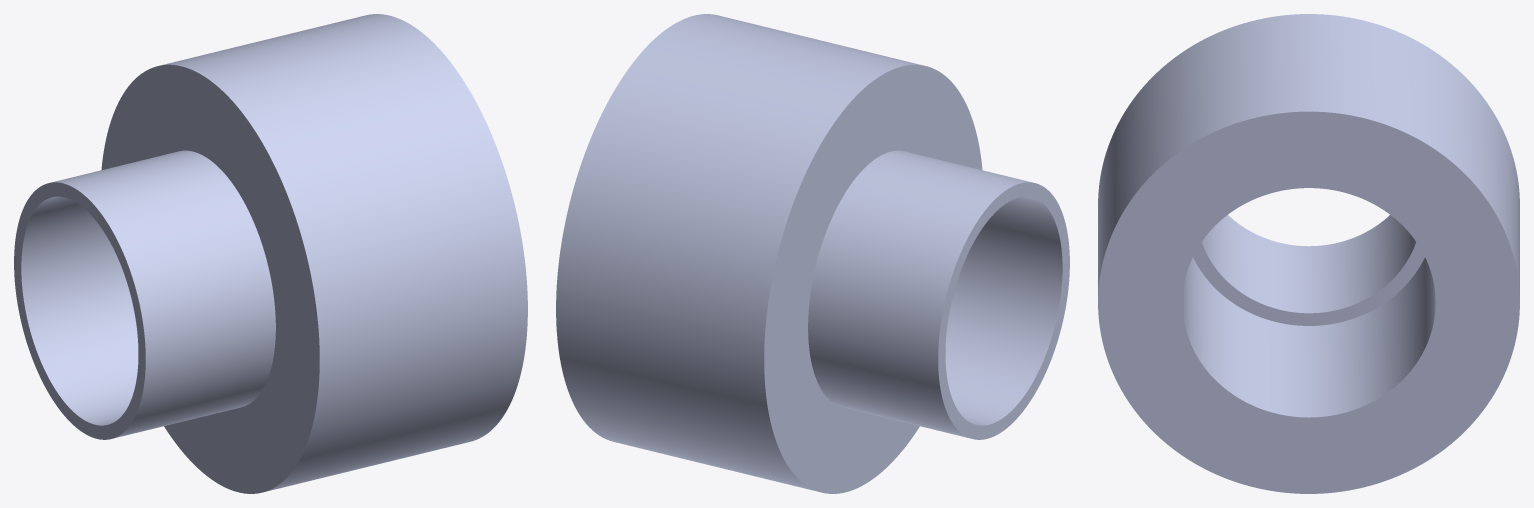
Rendered from AdjustablePipeline_2.fbx.
The picture shows the model from 3 angles, left to right: view 1: azimuth 30°, elevation 25°; view 2: azimuth 150°, elevation 25°; view 3: azimuth 270°, elevation 25°; orthographic projection. The views are drawn at different scales.
Parts seen in each view (by area): view 1: 旋转1; view 2: 旋转1; view 3: 旋转1.
Boxes of the visible parts, x1,y1,x2,y2 form: 旋转1: [14, 14, 527, 493]; 旋转1: [556, 14, 1069, 493]; 旋转1: [1098, 14, 1519, 493].
Size of the model in its own units: 2.1 by 2.36 by 2.36.
